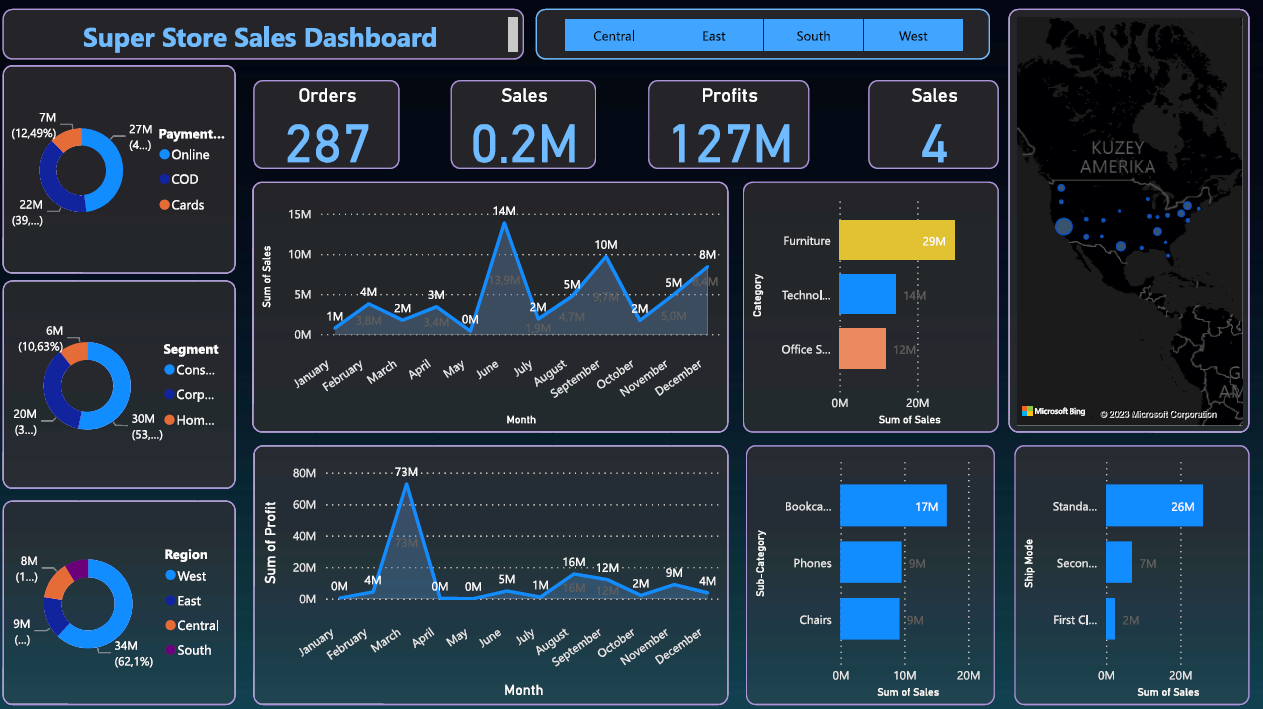

What the dashboard file says about the page in this screenshot:
{"tool":"powerbi","page":{"name":"Page 1","canvas":[1280,720],"ordinal":0},"visuals":[{"type":"clusteredBarChart","fields":{"Category":["SuperStore_Sales_Dataset.Category"],"Y":["Sum(SuperStore_Sales_Dataset.Sales)"]},"box":[753.4,184.4,258.1,253.8],"z":0},{"type":"clusteredBarChart","fields":{"Category":["SuperStore_Sales_Dataset.Sub-Category"],"Y":["Sum(SuperStore_Sales_Dataset.Sales)"]},"box":[756,451.3,252,262.5],"z":1000},{"type":"clusteredBarChart","fields":{"Category":["SuperStore_Sales_Dataset.Ship Mode"],"Y":["Sum(SuperStore_Sales_Dataset.Sales)"]},"box":[1028.2,451.3,238,262.5],"z":2000},{"type":"stackedAreaChart","fields":{"Category":["SuperStore_Sales_Dataset.Order Date.Variation.Date Hierarchy.Month","SuperStore_Sales_Dataset.Order Date.Variation.Date Hierarchy.Day"],"Y":["Sum(SuperStore_Sales_Dataset.Profit)"]},"box":[257.3,451.3,481.2,262.5],"z":3000},{"type":"stackedAreaChart","fields":{"Category":["SuperStore_Sales_Dataset.Order Date.Variation.Date Hierarchy.Month","SuperStore_Sales_Dataset.Order Date.Variation.Date Hierarchy.Day"],"Y":["Sum(SuperStore_Sales_Dataset.Sales)"]},"box":[256.4,184.4,481.2,253.8],"z":4000},{"type":"map","fields":{"Category":["SuperStore_Sales_Dataset.State"],"Size":["Sum(SuperStore_Sales_Dataset.Sales)"]},"box":[1022,8.8,244.1,429.4],"z":5000},{"type":"donutChart","fields":{"Category":["SuperStore_Sales_Dataset.Region"],"Y":["Sum(SuperStore_Sales_Dataset.Sales)"]},"box":[2.6,506.6,236.2,207.2],"z":6000},{"type":"donutChart","fields":{"Category":["SuperStore_Sales_Dataset.Segment"],"Y":["Sum(SuperStore_Sales_Dataset.Sales)"]},"box":[2.6,283.6,236.2,211.6],"z":7000},{"type":"slicer","fields":{"Values":["SuperStore_Sales_Dataset.Region"]},"box":[542.6,8.8,460.1,50.9],"z":8000},{"type":"textbox","box":[2.6,8.8,528.6,50.9],"z":9000},{"type":"card","title":"Sales","fields":{"Values":["Avg(SuperStore_Sales_Dataset.Sales)"]},"box":[457.5,80.8,146.6,90.4],"z":10000},{"type":"card","title":"Profits","fields":{"Values":["Sum(SuperStore_Sales_Dataset.Profit)"]},"box":[656.8,80.8,163.3,90.4],"z":11000},{"type":"card","title":"Orders","fields":{"Values":["CountNonNull(SuperStore_Sales_Dataset.Order Date)"]},"box":[257.3,80.8,147.5,90.4],"z":12000},{"type":"card","title":"Sales","fields":{"Values":["Avg(SuperStore_Sales_Dataset.AvgDelivery)"]},"box":[879.8,80.8,131.7,90.4],"z":13000},{"type":"donutChart","fields":{"Category":["SuperStore_Sales_Dataset.Payment Mode"],"Y":["Sum(SuperStore_Sales_Dataset.Sales)"]},"box":[2.6,65.9,236.2,210.7],"z":14000}]}

Visuals, with their boxes in screenshot pixels (x1, y1, x2, y2), scaled from the page's 1280x720 canvas onto the 1263x709 screenshot:
clusteredBarChart - SuperStore_Sales_Dataset.Category x Sum(SuperStore_Sales_Dataset.Sales): rect(743, 182, 998, 432)
clusteredBarChart - SuperStore_Sales_Dataset.Sub-Category x Sum(SuperStore_Sales_Dataset.Sales): rect(746, 444, 995, 703)
clusteredBarChart - SuperStore_Sales_Dataset.Ship Mode x Sum(SuperStore_Sales_Dataset.Sales): rect(1015, 444, 1249, 703)
stackedAreaChart - SuperStore_Sales_Dataset.Order Date.Variation.Date Hierarchy.Month x SuperStore_Sales_Dataset.Order Date.Variation.Date Hierarchy.Day: rect(254, 444, 729, 703)
stackedAreaChart - SuperStore_Sales_Dataset.Order Date.Variation.Date Hierarchy.Month x SuperStore_Sales_Dataset.Order Date.Variation.Date Hierarchy.Day: rect(253, 182, 728, 432)
map - SuperStore_Sales_Dataset.State x Sum(SuperStore_Sales_Dataset.Sales): rect(1008, 9, 1249, 432)
donutChart - SuperStore_Sales_Dataset.Region x Sum(SuperStore_Sales_Dataset.Sales): rect(3, 499, 236, 703)
donutChart - SuperStore_Sales_Dataset.Segment x Sum(SuperStore_Sales_Dataset.Sales): rect(3, 279, 236, 488)
slicer - SuperStore_Sales_Dataset.Region: rect(535, 9, 989, 59)
textbox: rect(3, 9, 524, 59)
"Sales" card: rect(451, 80, 596, 169)
"Profits" card: rect(648, 80, 809, 169)
"Orders" card: rect(254, 80, 399, 169)
"Sales" card: rect(868, 80, 998, 169)
donutChart - SuperStore_Sales_Dataset.Payment Mode x Sum(SuperStore_Sales_Dataset.Sales): rect(3, 65, 236, 272)
